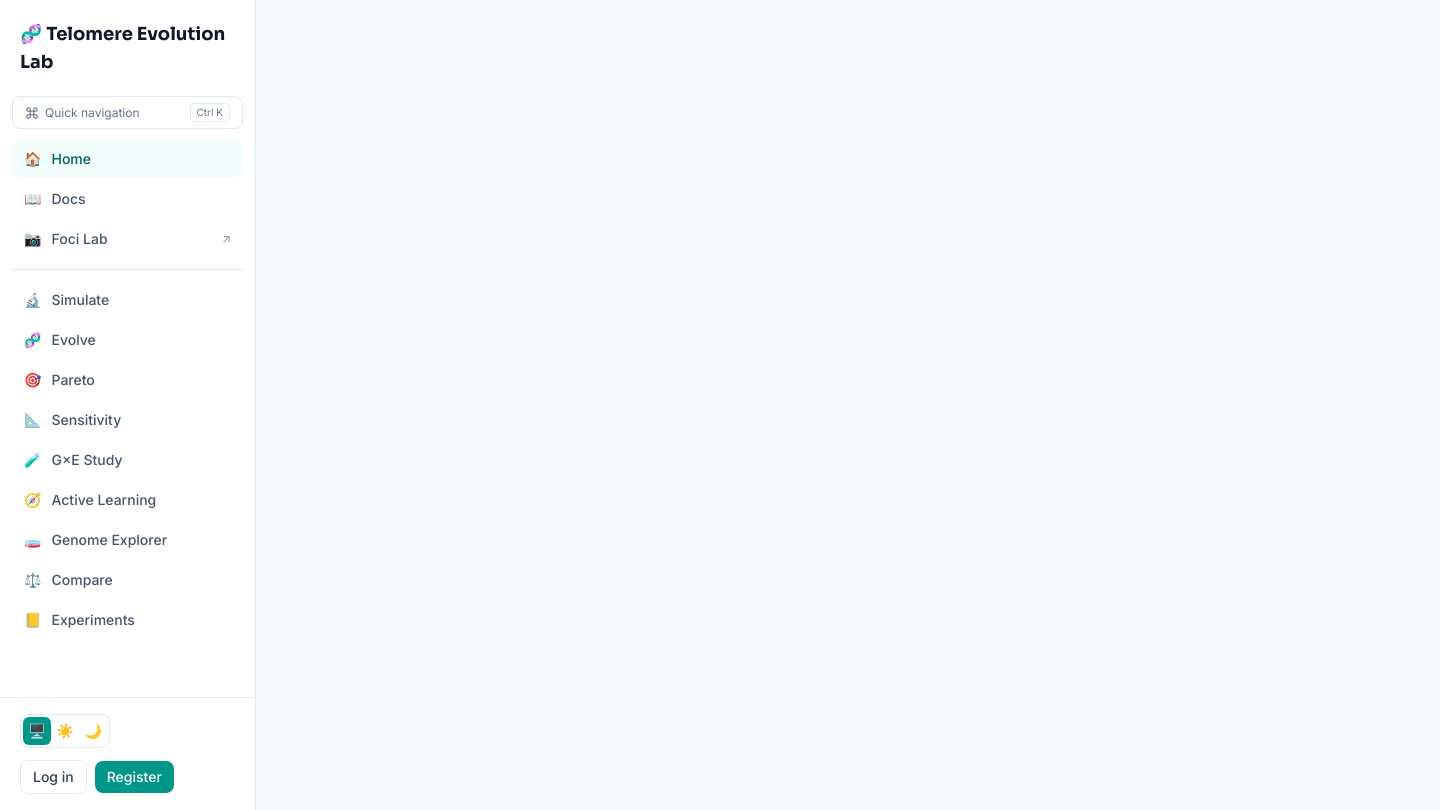
Test: command palette › opens with Ctrl-K, filters and navigates with the keyboard
Press k
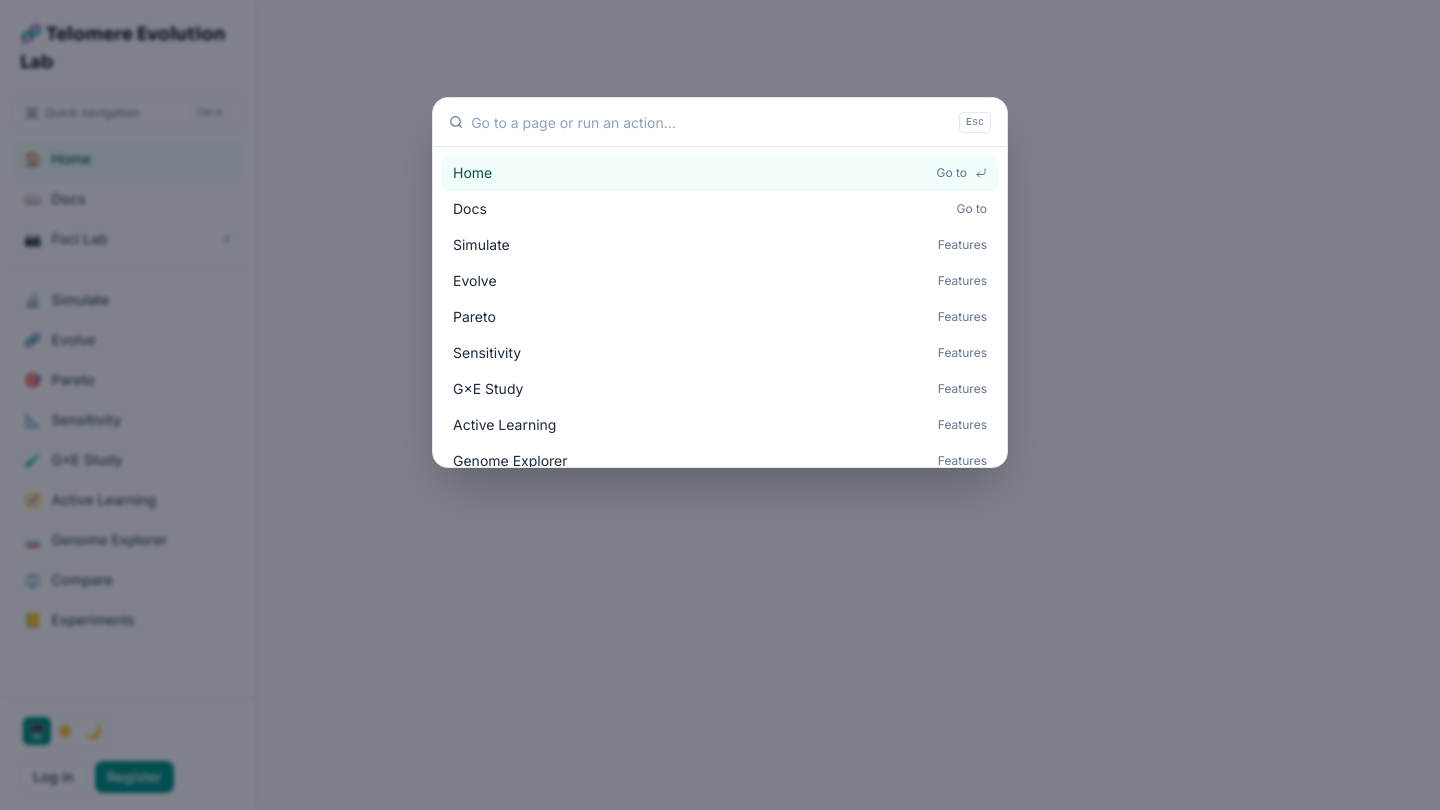
Type "evol" into the dropdown named "search pages" at (711, 122), box [471, 98, 951, 146]
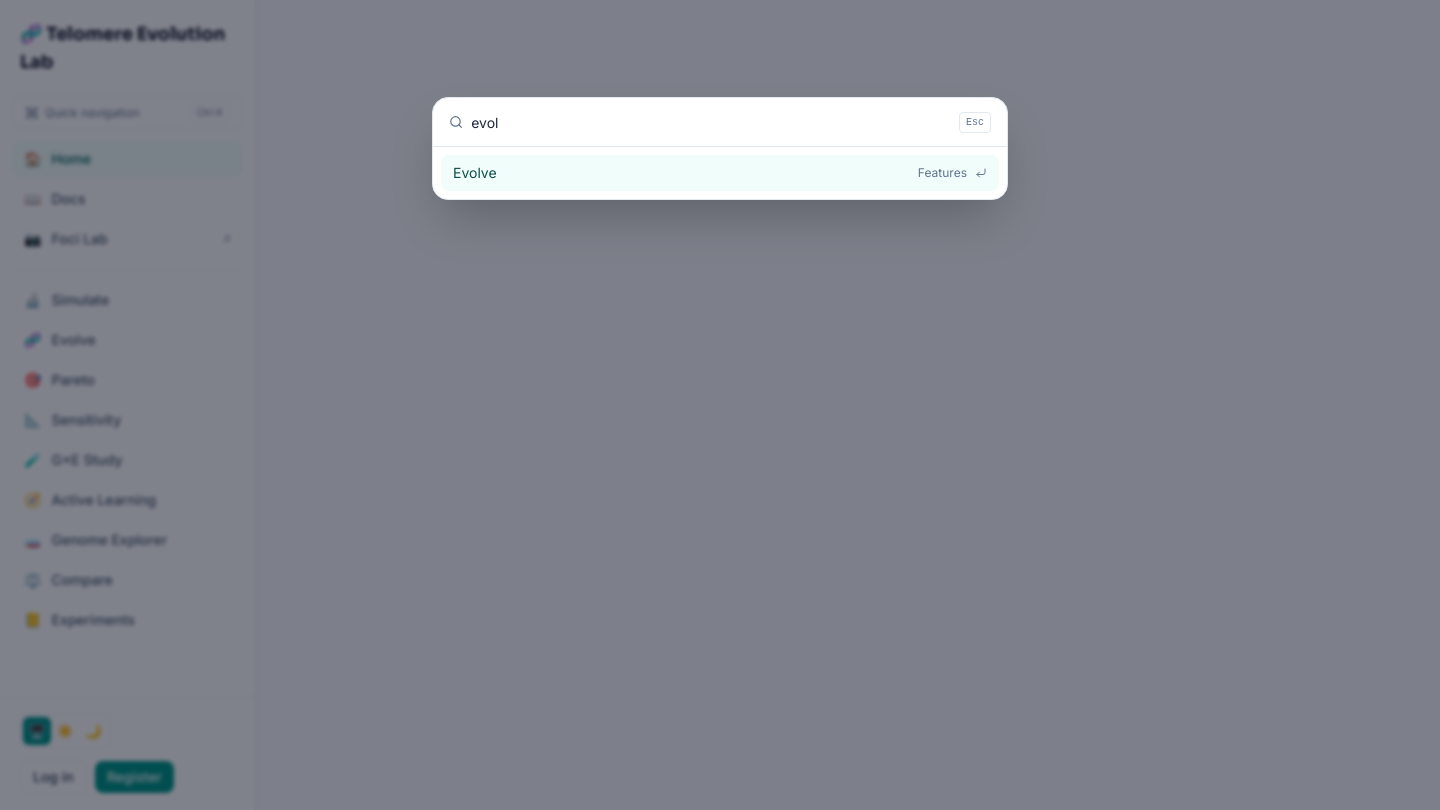
expect the number of options is 1: met, box [441, 155, 999, 191]
Press Enter in the dropdown named "search pages", box [471, 98, 951, 146]
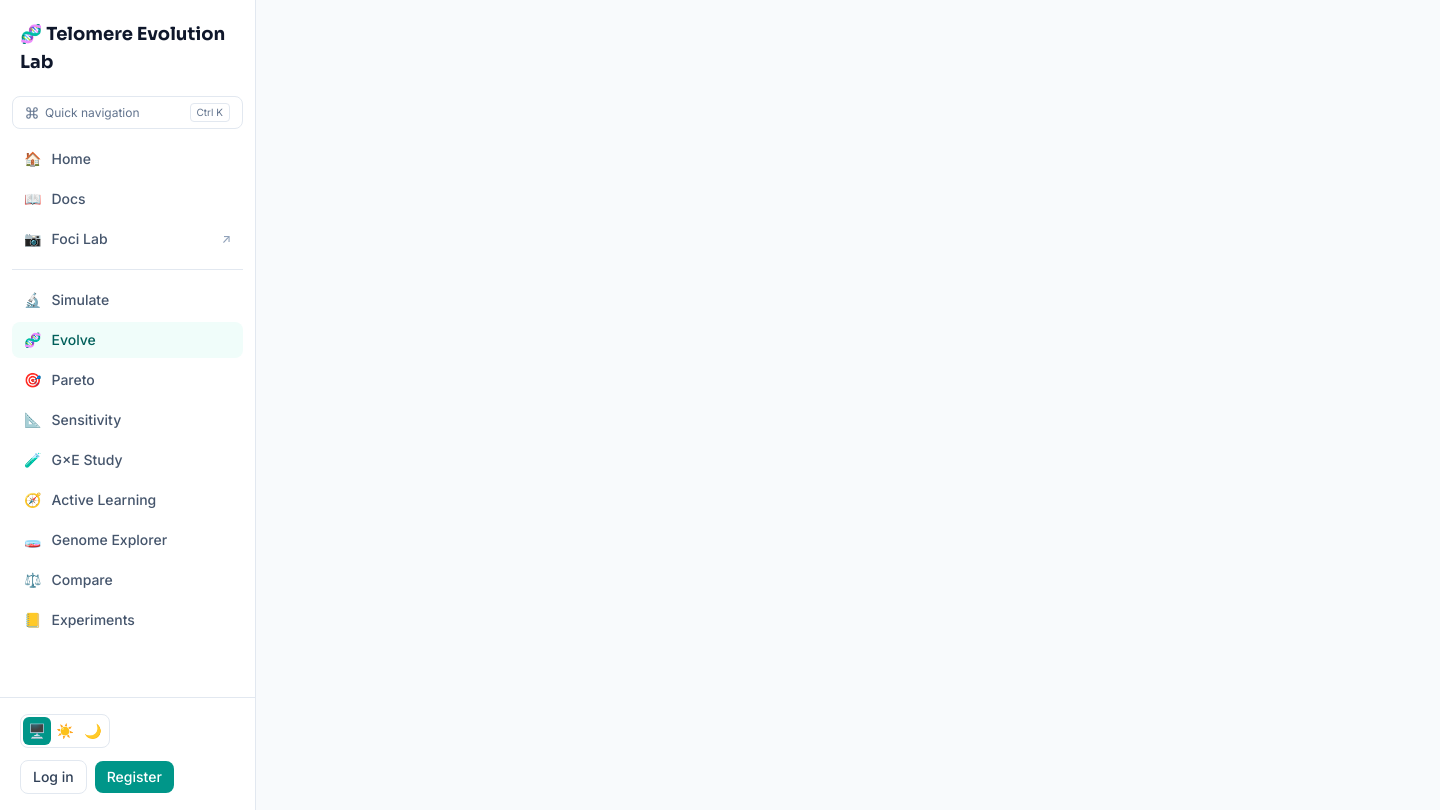
expect the dropdown is gone: met
